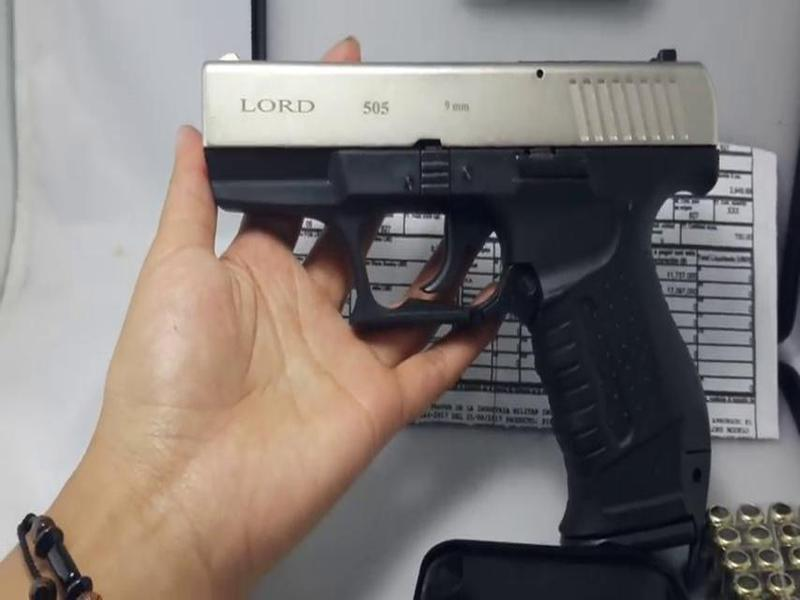Pistola: (173, 34, 728, 519)
